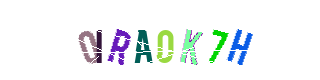0: (127, 0, 207, 80)
7: (178, 0, 258, 80)
A: (119, 0, 199, 80)
H: (200, 0, 280, 80)
I: (86, 0, 166, 80)
K: (144, 0, 224, 80)
O: (64, 0, 144, 80)
R: (89, 0, 169, 80)
